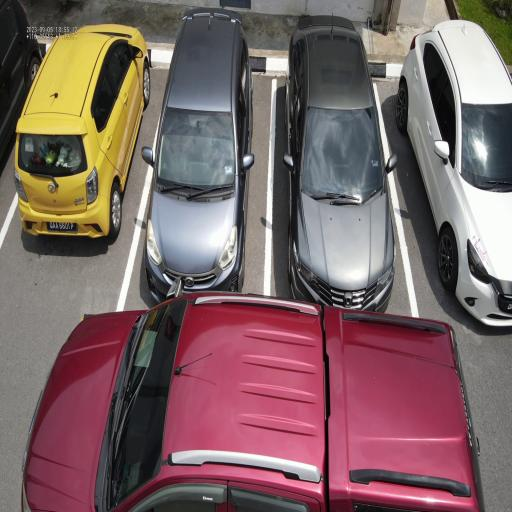Illegal: (20, 276, 483, 512)
Occupied: (100, 64, 285, 374), (257, 70, 435, 384)
